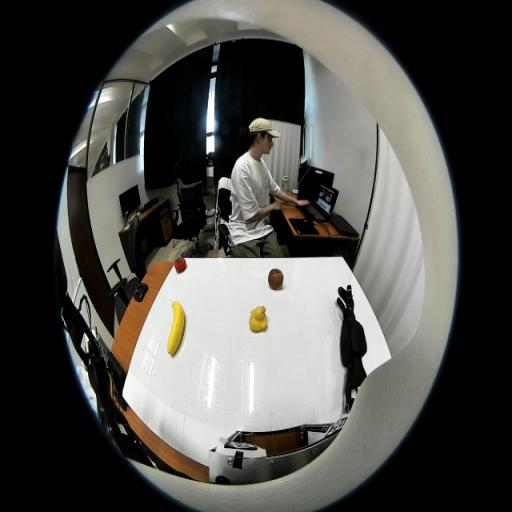Banana: (167, 300, 185, 355)
Duck: (249, 306, 267, 332)
Mushroom: (268, 269, 284, 290)
RightHand: (343, 307, 353, 316)
Tomato: (174, 257, 186, 272)
